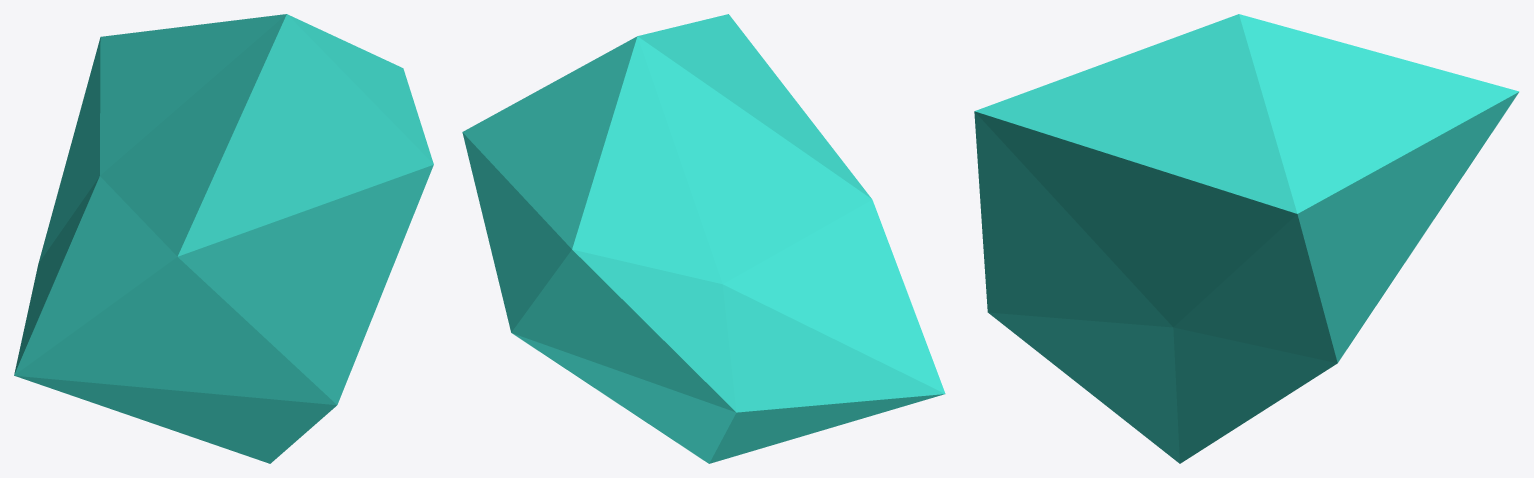
The model's file is asteroid.obj.
The picture shows the model from 3 angles, left to right: view 1: azimuth 30°, elevation 25°; view 2: azimuth 150°, elevation 25°; view 3: azimuth 270°, elevation 25°; orthographic projection. The views are drawn at different scales.
Parts seen in each view (by area): view 1: Asteroid_Turquoise; view 2: Asteroid_Turquoise; view 3: Asteroid_Turquoise.
Boxes of the visible parts, left/top/right/bottom form: Asteroid_Turquoise: left=14, top=14, right=433, bottom=463; Asteroid_Turquoise: left=462, top=14, right=945, bottom=463; Asteroid_Turquoise: left=974, top=14, right=1519, bottom=463.
Bounding box in the file's own units: 2.33 × 2.19 × 2.29.
